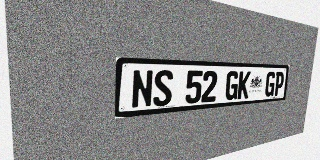2: (201, 71, 218, 103)
5: (185, 70, 203, 104)
G: (225, 71, 239, 100), (264, 72, 276, 97)
K: (237, 71, 251, 99)
N: (131, 70, 154, 109)
P: (273, 72, 285, 96)
S: (153, 70, 173, 107)
